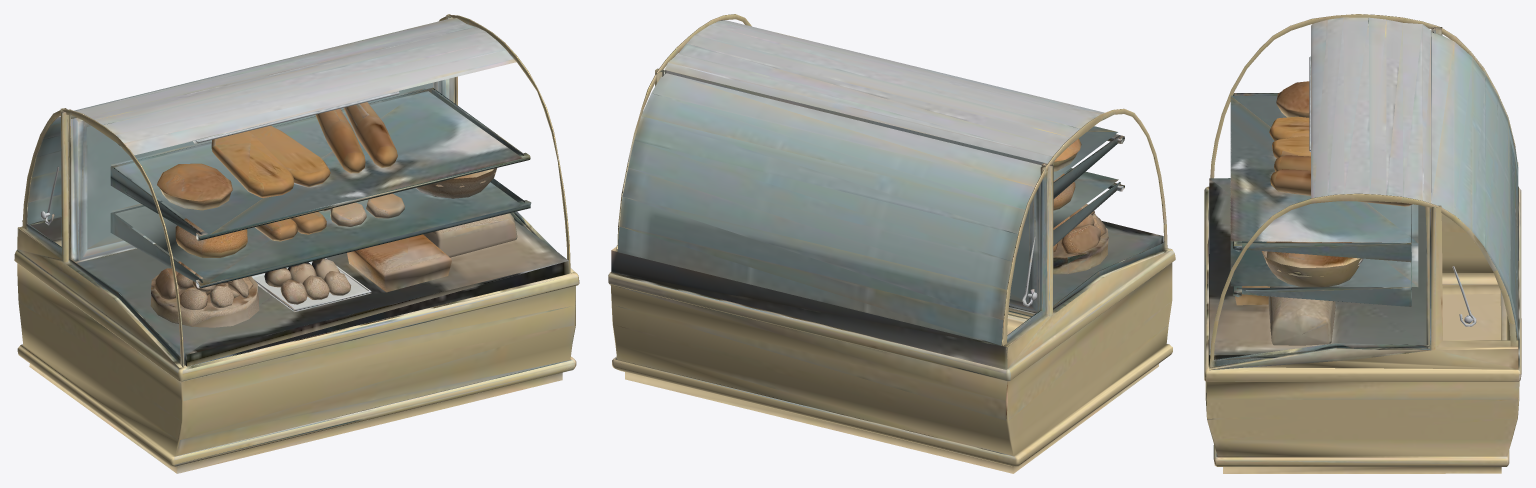
File: office-bakery-case.glb
The picture shows the model from 3 angles, left to right: view 1: azimuth 30°, elevation 25°; view 2: azimuth 150°, elevation 25°; view 3: azimuth 270°, elevation 25°; orthographic projection. The views are drawn at different scales.
Visible parts, largest first — view 1: bakery-case; view 2: bakery-case; view 3: bakery-case.
Boxes of the visible parts, x1,y1,x2,y2 form: bakery-case: (14,14,579,473); bakery-case: (608,14,1175,473); bakery-case: (1204,14,1521,473).
Size of the model in its own units: 1.6 by 1.11 by 1.14.
Materials: 1 (1 with a texture image).
